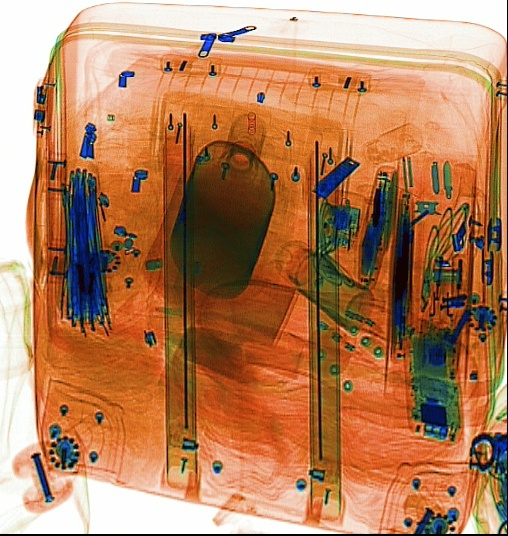powerbank: (353, 163, 400, 294)
